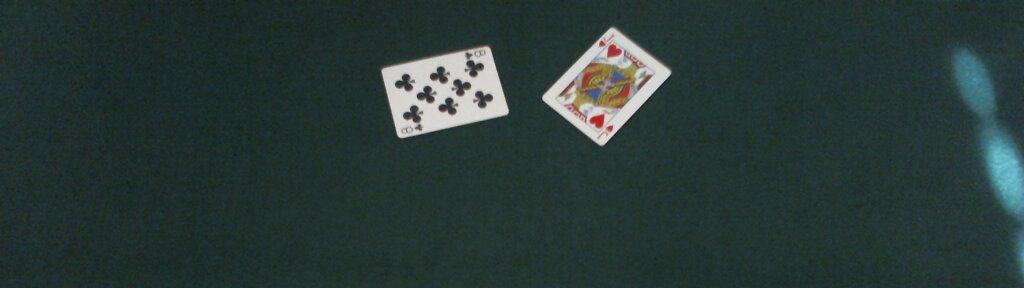eight: (378, 42, 508, 139)
jack: (541, 27, 670, 146)
